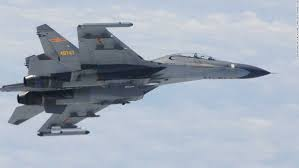fighter: (1, 16, 279, 138)
